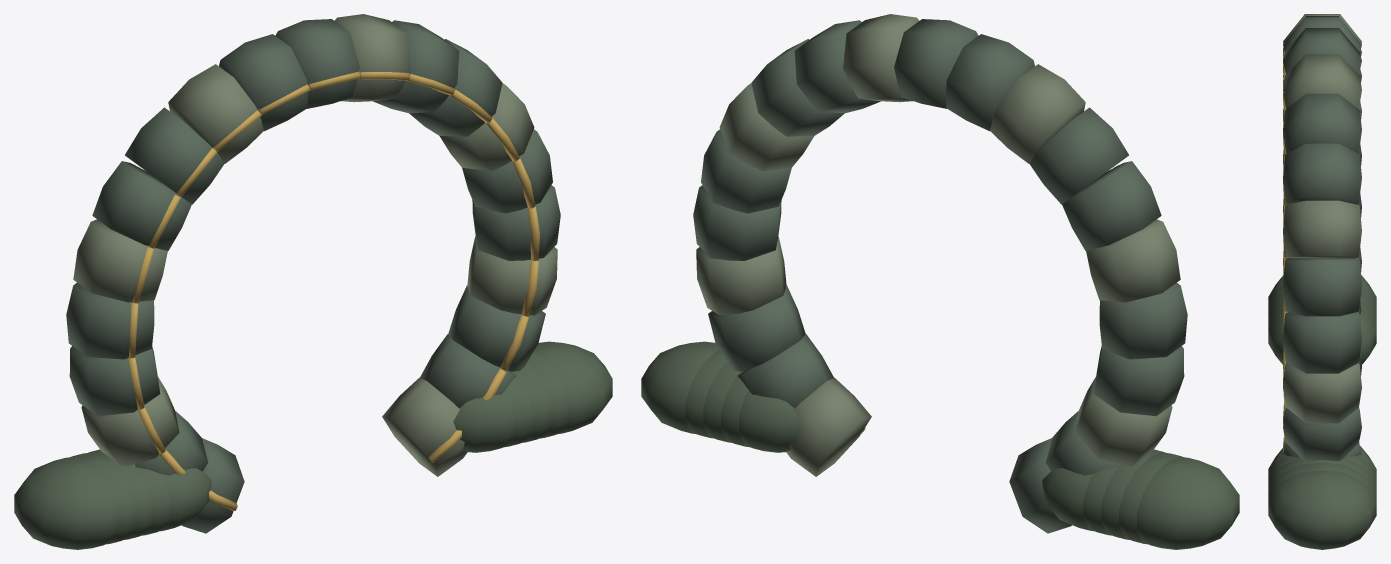
Rendered from portal.glb.
3 views of the same model, side by side, from view 1: azimuth 30°, elevation 25°; view 2: azimuth 150°, elevation 25°; view 3: azimuth 270°, elevation 25° (orthographic). The views are drawn at different scales.
Parts seen in each view (by area): view 1: Cantaria, Incrustacoes_de_ouro; view 2: Cantaria; view 3: Cantaria, Incrustacoes_de_ouro.
Boxes of the visible parts, box(x1,y1,x2,y2) form: Cantaria: box(14, 14, 612, 549); Incrustacoes_de_ouro: box(128, 71, 539, 510); Cantaria: box(641, 14, 1239, 549); Cantaria: box(1268, 14, 1376, 549); Incrustacoes_de_ouro: box(1283, 47, 1288, 451).
Size of the model in its own units: 7.5 by 5.79 by 1.37.
